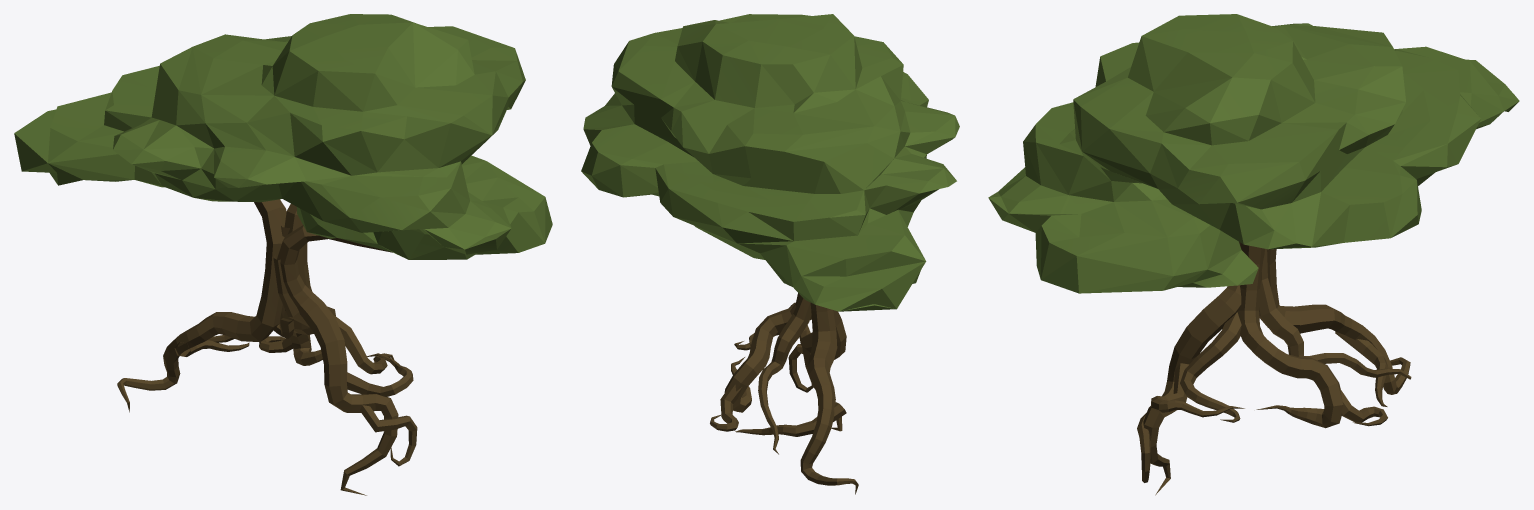
File: DarkWoodDecorationMediumCornerBasedTree2.fbx
The picture shows the model from 3 angles, left to right: view 1: azimuth 30°, elevation 25°; view 2: azimuth 150°, elevation 25°; view 3: azimuth 270°, elevation 25°; orthographic projection. The views are drawn at different scales.
Parts seen in each view (by area): view 1: Canopy, TreeTrunk; view 2: Canopy, TreeTrunk; view 3: Canopy, TreeTrunk.
Part boxes in pixels (x1,y1,x2,y2): Canopy: [14, 14, 552, 259]; TreeTrunk: [117, 199, 417, 495]; Canopy: [581, 14, 959, 311]; TreeTrunk: [710, 293, 858, 494]; Canopy: [988, 14, 1519, 293]; TreeTrunk: [1137, 242, 1411, 495].
Size of the model in its own units: 1901 by 1939 by 2021.
